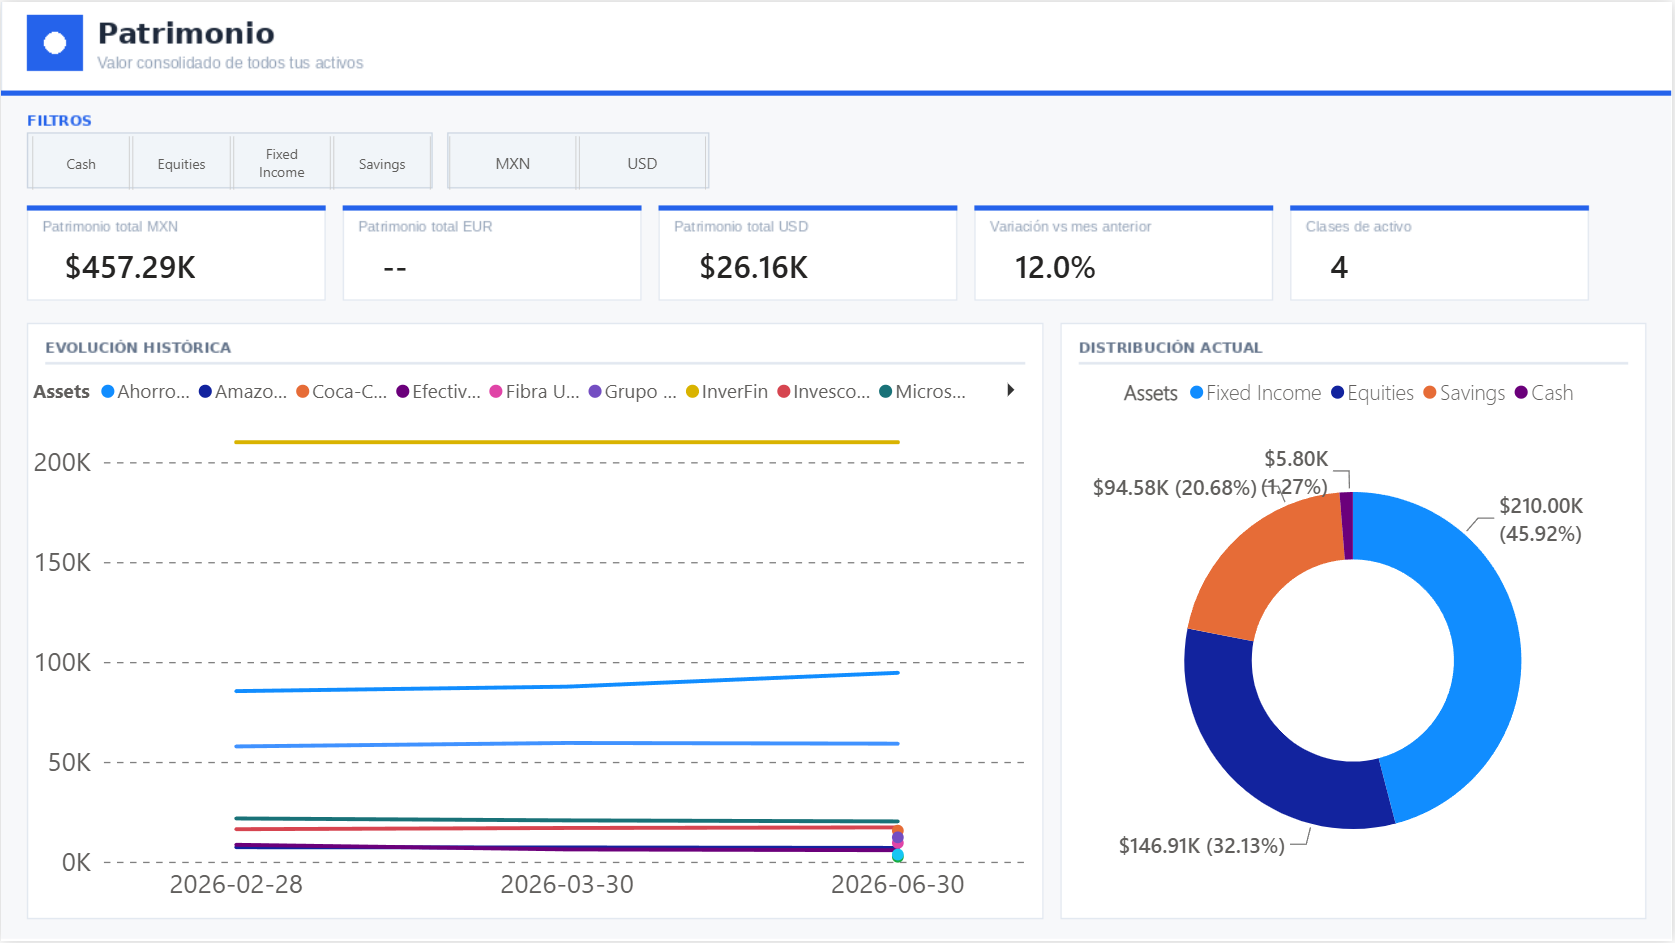

What the dashboard file says about the page in this screenshot:
{"tool":"powerbi","page":{"name":"Patrimonio","canvas":[1280,720],"ordinal":0},"visuals":[{"type":"cardVisual","title":"Patrimonio total MXN","fields":{"Data":["Fact_PortfolioSnapshot.Snapshot Último Mes"]},"box":[20,172.5,223.8,57.5],"z":0},{"type":"cardVisual","title":"Variación vs mes anterior","fields":{"Data":["Fact_PortfolioSnapshot.Crecimiento vs Mes Anterior"]},"box":[748.8,172.5,223.8,57.5],"z":1000},{"type":"cardVisual","title":"Clases de activo","fields":{"Data":["Count(Fact_PortfolioSnapshot.AssetGroup)"]},"box":[990,172.5,230,57.5],"z":2000},{"type":"lineChart","title":"Evolución del patrimonio por categoría","fields":{"Category":["Fact_PortfolioSnapshot.SnapshotDate"],"Series":["Fact_PortfolioSnapshot.AssetName"],"Y":["Fact_PortfolioSnapshot.Patrimonio Total MXN"]},"box":[20,277.5,773.8,422.5],"z":3000},{"type":"donutChart","title":"Distribución actual del patrimonio","fields":{"Category":["Fact_PortfolioSnapshot.AssetGroup"],"Y":["Fact_PortfolioSnapshot.Snapshot Último Mes"]},"box":[815,277.5,441.2,422.5],"z":4000},{"type":"slicer","title":"Categoría","fields":{"Values":["Fact_PortfolioSnapshot.AssetGroup"]},"box":[0,97.5,353.5,51],"z":5000},{"type":"slicer","title":"Divisa","fields":{"Values":["Fact_PortfolioSnapshot.Currency"]},"box":[320,97.5,244.5,51],"z":6000},{"type":"cardVisual","title":"Patrimonio total EUR","fields":{"Data":["Fact_PortfolioSnapshot.Patrimonio Total EUR"]},"box":[263.8,172.5,228.8,57.5],"z":7000},{"type":"cardVisual","title":"Patrimonio total USD","fields":{"Data":["Fact_PortfolioSnapshot.Patrimonio Total USD"]},"box":[506.2,172.5,220,57.5],"z":8000}]}

Visuals, with their boxes in screenshot pixels (x1, y1, x2, y2), scaled from the page's 1280x720 canvas onto the 1675x943 screenshot:
"Patrimonio total MXN" cardVisual: (26, 226, 319, 301)
"Variación vs mes anterior" cardVisual: (980, 226, 1273, 301)
"Clases de activo" cardVisual: (1296, 226, 1596, 301)
"Evolución del patrimonio por categoría" lineChart: (26, 363, 1039, 917)
"Distribución actual del patrimonio" donutChart: (1067, 363, 1644, 917)
"Categoría" slicer: (0, 128, 463, 194)
"Divisa" slicer: (419, 128, 739, 194)
"Patrimonio total EUR" cardVisual: (345, 226, 645, 301)
"Patrimonio total USD" cardVisual: (662, 226, 950, 301)
